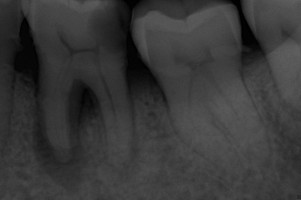Dental Caries: (31, 81, 103, 192), (109, 125, 140, 183)
